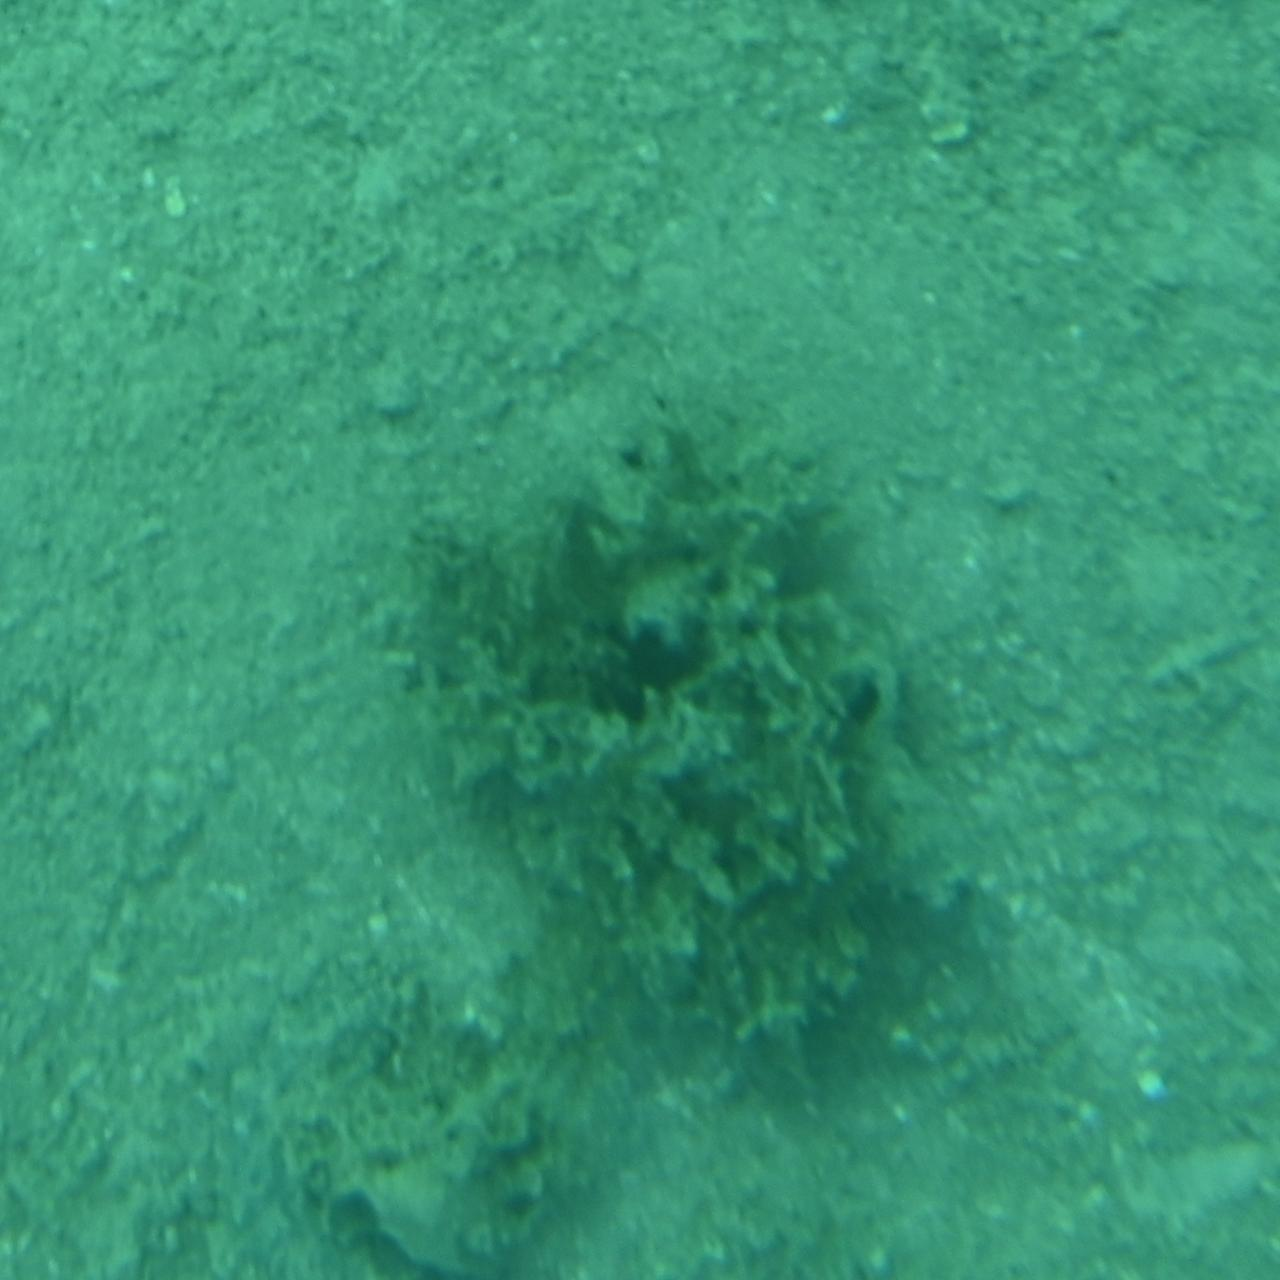Phaeophyceae -cfr Cystoseira-: (366, 408, 914, 1120)
